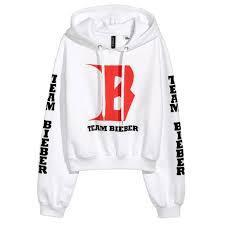sweater: (26, 3, 195, 221)
